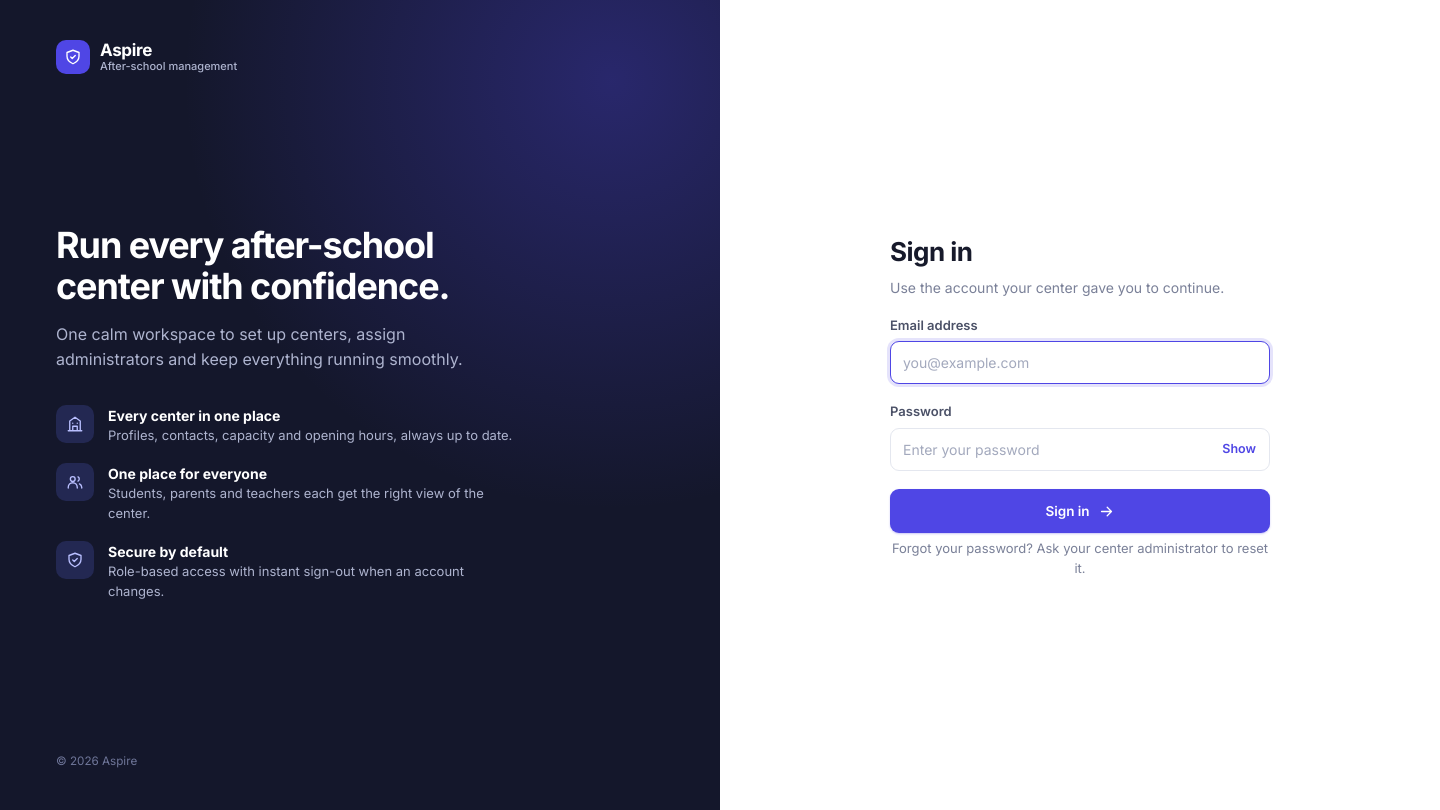
Test: Login page › shows the API error and does not create a session when login fails
Type "owner@example.com" into the field labelled "Email address" at (1080, 363), box [890,341,1270,384]
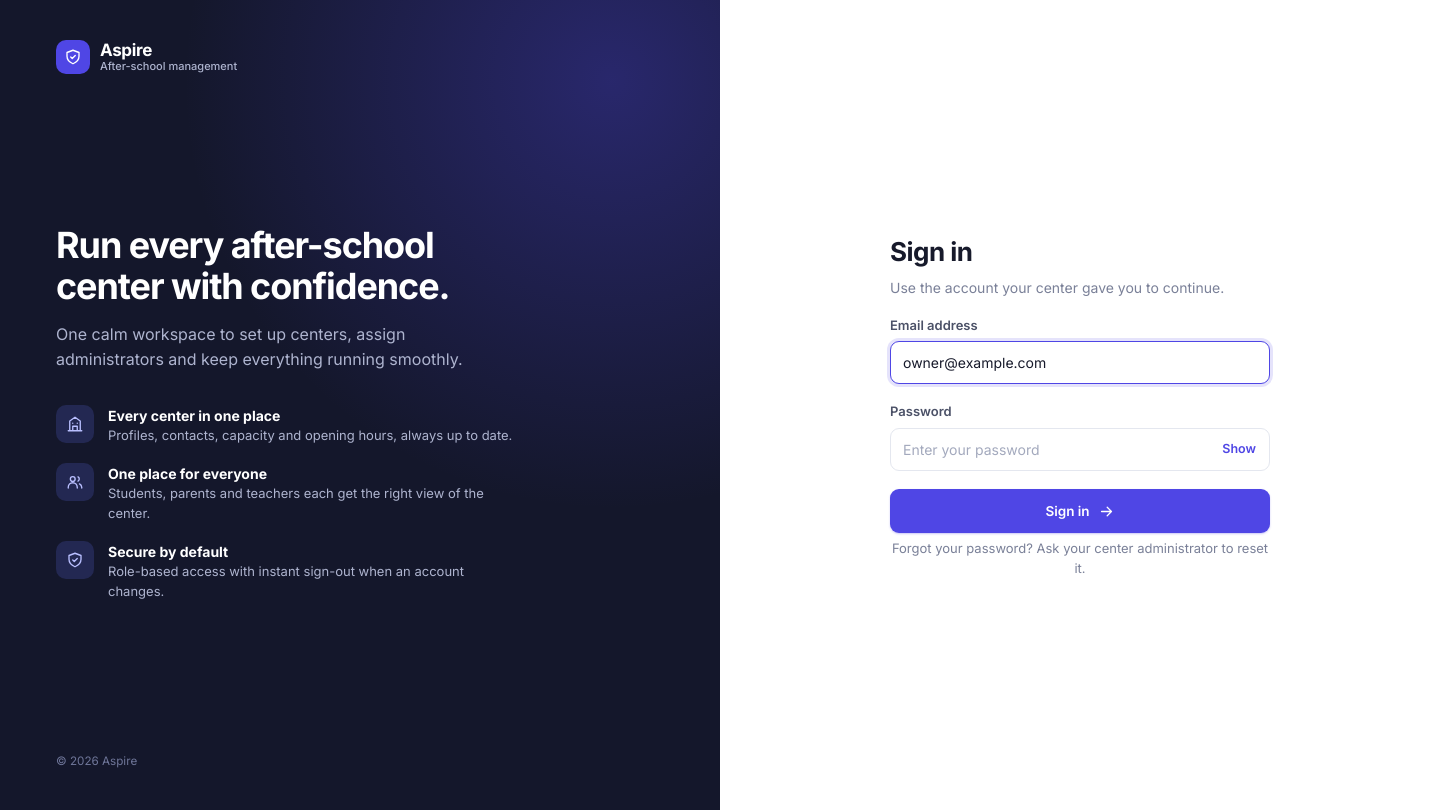
Type "wrong-password" into the password field labelled "Password" at (1080, 449), box [890,428,1270,471]
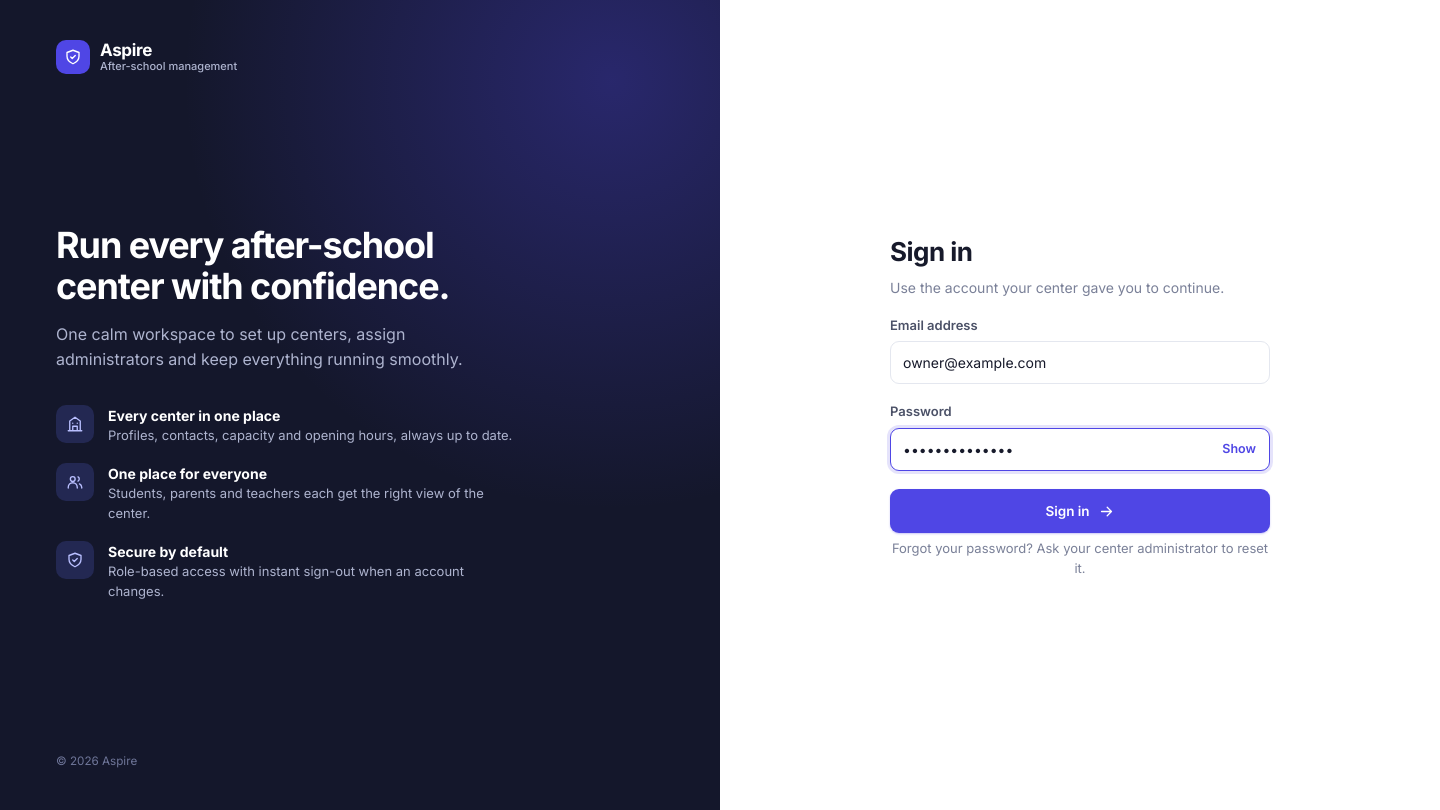
Click the button "Sign in" at (1080, 511), box [890,489,1270,533]
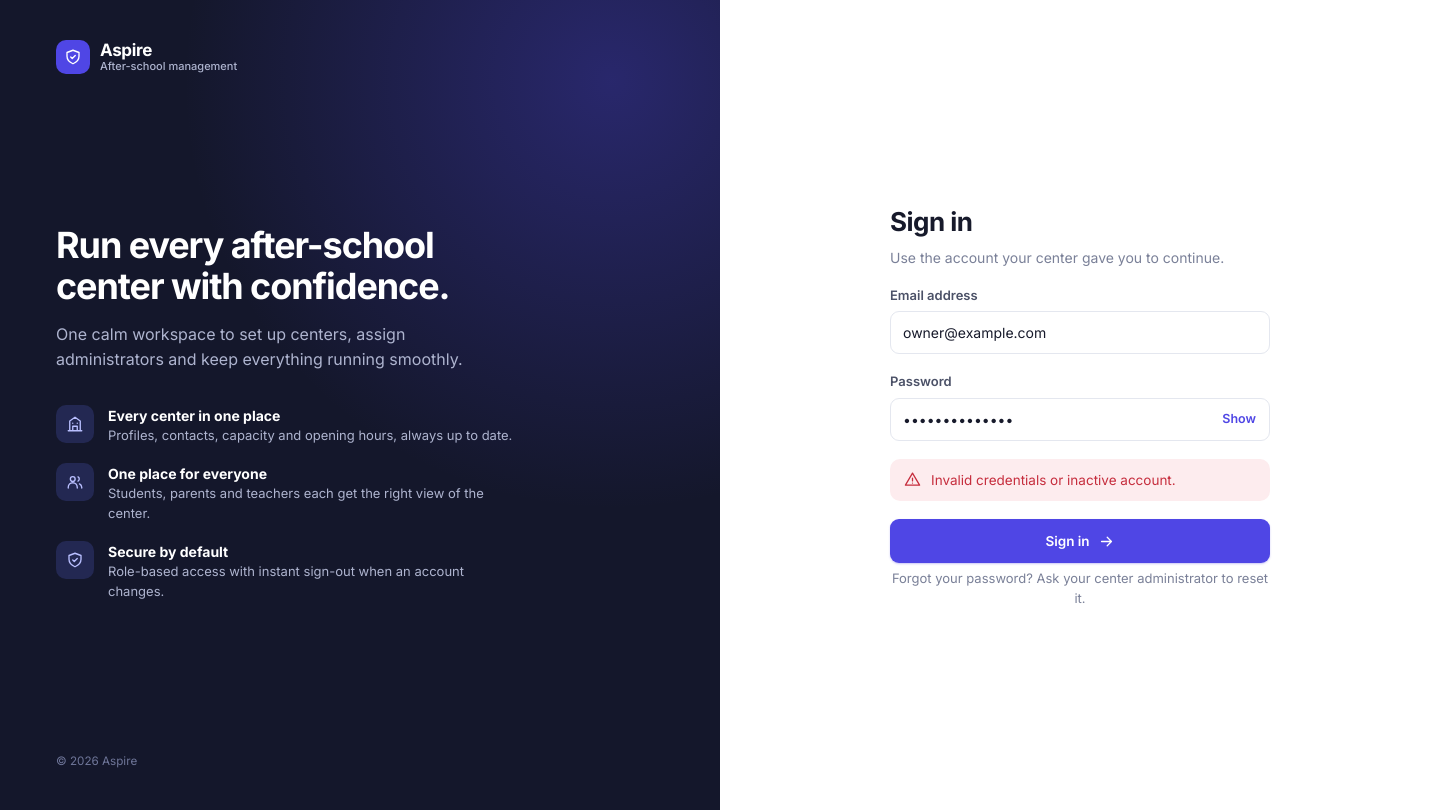
Check: the button "Sign in" is enabled, box [890,519,1270,563]
Check: the message reads "Invalid credentials or inactive account.", box [931,472,1176,488]
